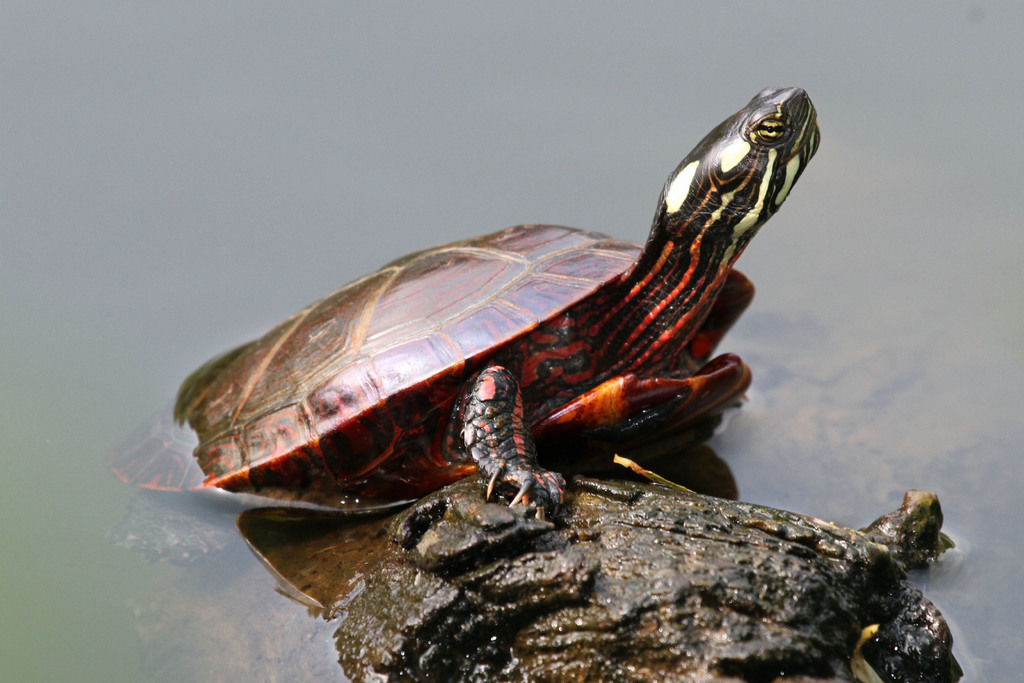Sea turtles: (87, 79, 827, 570)
